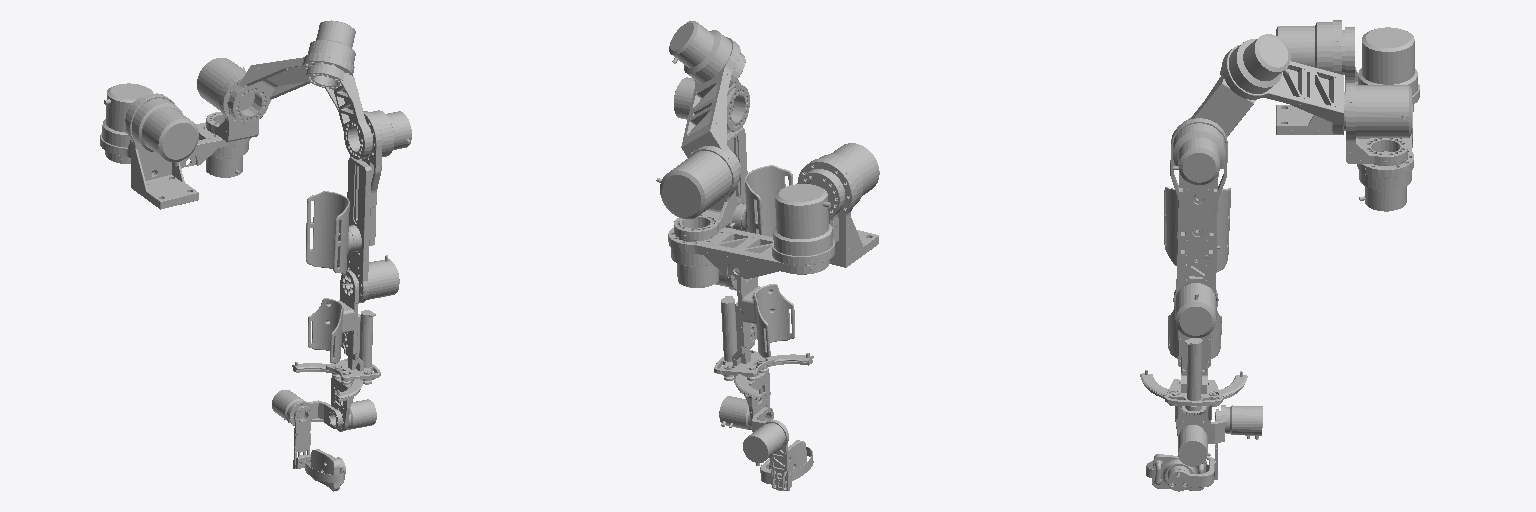
The robot description file, URDF, robot "robot_urdf":
<?xml version="1.0" encoding="utf-8"?>
<robot name="robot_urdf">

  <material name="robot">
    <color rgba="0.75 0.75 0.75 1" />
  </material>

  <link name="world" />

  <joint name="world_to_base" type="fixed">
    <parent link="world" />
    <child link="base_link" />
    <origin xyz="0 0 0" rpy="-1.57079632679 0 0" />
  </joint>

  <link name="base_link">
    <visual>
      <geometry>
        <mesh filename="package://robot_urdf/meshes/base_link.STL" />
      </geometry>
      <material name="robot" />
    </visual>

    <collision>
      <geometry>
        <mesh filename="package://robot_urdf/meshes/base_link.STL" />
      </geometry>
    </collision>

    <inertial>
      <origin xyz="0.0274929770310187 0.0182559019874188 0.209752685505865" />
      <mass value="0.61343552337577" />
      <inertia
        ixx="0.00170599558790517"
        ixy="-3.1327560390215E-07"
        ixz="-6.94935394994512E-07"
        iyy="0.00155618141788837"
        iyz="-0.000419257756926205"
        izz="0.000883201019316503" />
    </inertial>
  </link>

  <link name="link1">
    <visual>
      <geometry>
        <mesh filename="package://robot_urdf/meshes/link1.STL" />
      </geometry>
      <material name="robot" />
    </visual>

    <collision>
      <geometry>
        <mesh filename="package://robot_urdf/meshes/link1.STL" />
      </geometry>
    </collision>

    <inertial>
      <origin xyz="0.00682679313278134 0.0100755171851528 -0.000209419106575327" />
      <mass value="1.76165867066071" />
      <inertia
        ixx="0.00218972328755876"
        ixy="-0.000195636097574957"
        ixz="4.41962113056388E-06"
        iyy="0.0018015100775332"
        iyz="2.24234266969904E-06"
        izz="0.00240804136539749" />
    </inertial>
  </link>

  <joint name="joint1" type="continuous">
    <parent link="base_link" />
    <child link="link1" />
    <origin xyz="0.027469822907858 -0.289405264220156 0"
      rpy="1.5707963267949 0 1.5707963267949" />
    <axis xyz="0 1 0" />
  </joint>

  <link name="link2">
    <visual>
      <geometry>
        <mesh filename="package://robot_urdf/meshes/link2.STL" />
      </geometry>
      <material name="robot" />
    </visual>

    <collision>
      <geometry>
        <mesh filename="package://robot_urdf/meshes/link2.STL" />
      </geometry>
    </collision>

    <inertial>
      <origin xyz="-0.0250597440686268 0.0433386212409947 0.000522653947489252" />
      <mass value="2.02840748446522" />
      <inertia
        ixx="0.00212630610039578"
        ixy="2.65961076107189E-05"
        ixz="4.6863903190885E-05"
        iyy="0.00401857805214743"
        iyz="1.14689748897886E-07"
        izz="0.00408907845907117" />
    </inertial>
  </link>

  <joint name="joint2" type="continuous">
    <parent link="link1" />
    <child link="link2" />
    <origin xyz="0 0.115812449934297 0"
      rpy="-1.57079632679443 1.52665095895204 -3.14159265358932" />
    <axis xyz="0 1 0" />
  </joint>

  <link name="link3">
    <visual>
      <geometry>
        <mesh filename="package://robot_urdf/meshes/link3.STL" />
      </geometry>
      <material name="robot" />
    </visual>

    <collision>
      <geometry>
        <mesh filename="package://robot_urdf/meshes/link3.STL" />
      </geometry>
    </collision>

    <inertial>
      <origin xyz="0.00803954449719568 -0.100590902283783 0.00140850110063129" />
      <mass value="1.3132850053279" />
      <inertia
        ixx="0.00127606008026525"
        ixy="-0.000130867042937617"
        ixz="-1.05876749837975E-05"
        iyy="0.00100104592688081"
        iyz="-2.40786384368118E-05"
        izz="0.00133329213541037" />
    </inertial>
  </link>

  <joint name="joint3" type="continuous">
    <parent link="link2" />
    <child link="link3" />
    <origin xyz="-0.18997 0 0.0035357"
      rpy="0 -1.3996 3.1416" />
    <axis xyz="0 -1 0" />
  </joint>

  <link name="link4">
    <visual>
      <geometry>
        <mesh filename="package://robot_urdf/meshes/link4.STL" />
      </geometry>
      <material name="robot" />
    </visual>

    <collision>
      <geometry>
        <mesh filename="package://robot_urdf/meshes/link4.STL" />
      </geometry>
    </collision>

    <inertial>
      <origin xyz="0.014423847674814 0.0398974239183439 -0.0105291311947855" />
      <mass value="1.71574111556864" />
      <inertia
        ixx="0.00332586680189833"
        ixy="-0.000907183566585684"
        ixz="0.000438714599177573"
        iyy="0.00237311389713748"
        iyz="0.000724674950471429"
        izz="0.0035265768704389" />
    </inertial>
  </link>

  <joint name="joint4" type="continuous">
    <parent link="link3" />
    <child link="link4" />
    <origin xyz="0 0 0"
      rpy="2.56596813108925 1.25242393585874 1.0184622379495" />
    <axis xyz="0 1 0" />
  </joint>

  <link name="link5">
    <visual>
      <geometry>
        <mesh filename="package://robot_urdf/meshes/link5.STL" />
      </geometry>
      <material name="robot" />
    </visual>

    <collision>
      <geometry>
        <mesh filename="package://robot_urdf/meshes/link5.STL" />
      </geometry>
    </collision>

    <inertial>
      <origin xyz="0.00259298651686196 -0.0198584739853143 -0.0102990563602805" />
      <mass value="1.33531734347054" />
      <inertia
        ixx="0.0017175622267984"
        ixy="-0.000101357904701031"
        ixz="7.21933951934196E-05"
        iyy="0.0012435055691036"
        iyz="0.000414580097414101"
        izz="0.00144445130048168" />
    </inertial>
  </link>

  <joint name="joint5" type="continuous">
    <parent link="link4" />
    <child link="link5" />
    <origin xyz="0.0946351936209319 0.210533090172604 -0.0762866795769143"
      rpy="2.28039917097598 -0.763007747213142 -1.53406250139247" />
    <axis xyz="0 -1 0" />
  </joint>

  <link name="link6">
    <visual>
      <geometry>
        <mesh filename="package://robot_urdf/meshes/link6.STL" />
      </geometry>
      <material name="robot" />
    </visual>

    <collision>
      <geometry>
        <mesh filename="package://robot_urdf/meshes/link6.STL" />
      </geometry>
    </collision>

    <inertial>
      <origin xyz="0.0110067641847341 -0.0534934883021295 0.0524388143166357" />
      <mass value="1.71877897950771" />
      <inertia
        ixx="0.00351387659776997"
        ixy="2.27373890611693E-06"
        ixz="-0.000503059893544726"
        iyy="0.00380606490889271"
        iyz="-2.71423649015846E-06"
        izz="0.00124530860511652" />
    </inertial>
  </link>

  <joint name="joint6" type="continuous">
    <parent link="link5" />
    <child link="link6" />
    <origin xyz="0.0148674067720644 0.106324927585297 -0.059559132727178"
      rpy="1.76122232777038 0.543874247010192 2.3245839175662" />
    <axis xyz="0 1 0" />
  </joint>

  <link name="link7">
    <visual>
      <geometry>
        <mesh filename="package://robot_urdf/meshes/link7.STL" />
      </geometry>
      <material name="robot" />
    </visual>

    <collision>
      <geometry>
        <mesh filename="package://robot_urdf/meshes/link7.STL" />
      </geometry>
    </collision>

    <inertial>
      <origin xyz="-0.03858 -0.050157 -0.00014397" />
      <mass value="1.394" />
      <inertia
        ixx="0.00071096"
        ixy="9.8092E-06"
        ixz="-2.1413E-06"
        iyy="0.0010059"
        iyz="4.5275E-08"
        izz="0.0010848" />
    </inertial>
  </link>

  <joint name="joint7" type="continuous">
    <parent link="link6" />
    <child link="link7" />
    <origin xyz="0.0554883725781824 0 0.26321481817828"
      rpy="3.14159265358979 1.35917882149054 -3.14159265358979" />
    <axis xyz="0 1 0" />
  </joint>

  <link name="link8">
    <visual>
      <geometry>
        <mesh filename="package://robot_urdf/meshes/link8.STL" />
      </geometry>
      <material name="robot" />
    </visual>

    <collision>
      <geometry>
        <mesh filename="package://robot_urdf/meshes/link8.STL" />
      </geometry>
    </collision>

    <inertial>
      <origin xyz="0.00011366 -0.026471 -0.052085" />
      <mass value="0.10894" />
      <inertia
        ixx="6.4282E-05"
        ixy="1.0498E-07"
        ixz="-2.7956E-07"
        iyy="0.00011663"
        iyz="5.8136E-06"
        izz="0.00014657" />
    </inertial>
  </link>

  <joint name="joint8" type="fixed">
    <parent link="link7" />
    <child link="link8" />
    <origin xyz="-0.167648757864712 0.046872009089088 -0.000645357590316559"
      rpy="1.57079632679201 -1.56694688340607 -3.14159265358691" />
  </joint>

  <link name="link9">
    <visual>
      <geometry>
        <mesh filename="package://robot_urdf/meshes/link9.STL" />
      </geometry>
      <material name="robot" />
    </visual>

    <collision>
      <geometry>
        <mesh filename="package://robot_urdf/meshes/link9.STL" />
      </geometry>
    </collision>

    <inertial>
      <origin xyz="0.00459376097181989 -0.0222553214893546 0.00210158019905238" />
      <mass value="0.3401168202357" />
      <inertia
        ixx="0.000142370926652014"
        ixy="-1.12807533068679E-05"
        ixz="-5.69981511108511E-06"
        iyy="9.8579803145472E-05"
        iyz="-5.55382632542098E-06"
        izz="0.000152692905615382" />
    </inertial>
  </link>

  <joint name="joint9" type="fixed">
    <parent link="link8" />
    <child link="link9" />
    <origin xyz="0 -0.0760000000000005 -0.0507999999999832"
      rpy="1.5707963267949 0 -2.69801321173957" />
  </joint>

  <link name="link10">
    <visual>
      <geometry>
        <mesh filename="package://robot_urdf/meshes/link10.STL" />
      </geometry>
      <material name="robot" />
    </visual>

    <collision>
      <geometry>
        <mesh filename="package://robot_urdf/meshes/link10.STL" />
      </geometry>
    </collision>

    <inertial>
      <origin xyz="0.0199642822550874 -0.00967358488221544 -0.00375560455990792" />
      <mass value="0.397644492245874" />
      <inertia
        ixx="0.000165496975011332"
        ixy="1.36744163367909E-07"
        ixz="-1.57709058818385E-06"
        iyy="0.000126495241473751"
        iyz="5.36980028941662E-06"
        izz="0.000200951956233902" />
    </inertial>
  </link>

  <joint name="joint10" type="fixed">
    <parent link="link9" />
    <child link="link10" />
    <origin xyz="0.0405997949588489 0.0509999999999952 0.0192914268342251"
      rpy="-1.66340666484801 1.12517093240157 -0.102566626437443" />
  </joint>

</robot>

--- What the picture shows (computed from the rendered views, not written in the file) ---
Views: 3 orthographic renders of the robot side by side, from view 1: azimuth 30°, elevation 25°; view 2: azimuth 150°, elevation 25°; view 3: azimuth 270°, elevation 25°.
Robot: robot_urdf — 12 links, 11 joints (7 continuous, 4 fixed); root link world; default pose: all joints at 0.
Links seen in each view (by area): view 1: link6, link7, link4, link5, link1, base_link, link2, link10, link3, link9, link8; view 2: link2, link4, link7, link6, link5, link1, link3, link10, base_link, link8, link9; view 3: link6, link4, link7, link5, link2, link3, link10, link1, base_link, link9, link8.
Link boxes in pixels (x1,y1,x2,y2): link6: (306, 110, 411, 302); link7: (308, 255, 399, 384); link4: (197, 53, 354, 123); link5: (306, 20, 372, 159); link1: (100, 95, 198, 166); base_link: (126, 93, 198, 209); link2: (102, 83, 250, 168); link10: (272, 390, 345, 491); link3: (206, 73, 258, 177); link9: (288, 399, 376, 429); link8: (292, 362, 362, 431); link2: (668, 184, 832, 278); link4: (656, 37, 740, 218); link7: (714, 268, 794, 380); link6: (674, 77, 792, 290); link5: (669, 21, 749, 131); link1: (772, 143, 879, 265); link3: (671, 146, 738, 287); link10: (743, 423, 813, 490); base_link: (797, 158, 878, 267); link8: (734, 353, 813, 424); link9: (719, 396, 788, 447); link6: (1164, 118, 1230, 306); link4: (1222, 45, 1411, 137); link7: (1165, 283, 1222, 415); link5: (1183, 34, 1290, 136); link2: (1357, 27, 1417, 178); link3: (1346, 83, 1411, 211); link10: (1146, 405, 1262, 491); link1: (1276, 22, 1419, 104); base_link: (1276, 20, 1341, 134); link9: (1178, 405, 1225, 466); link8: (1140, 370, 1247, 436).
Size in the robot's own frame: 0.4264 by 0.4225 by 0.7995 metres.
11 mesh visuals loaded from 11 distinct referenced files (11 binary STL).
